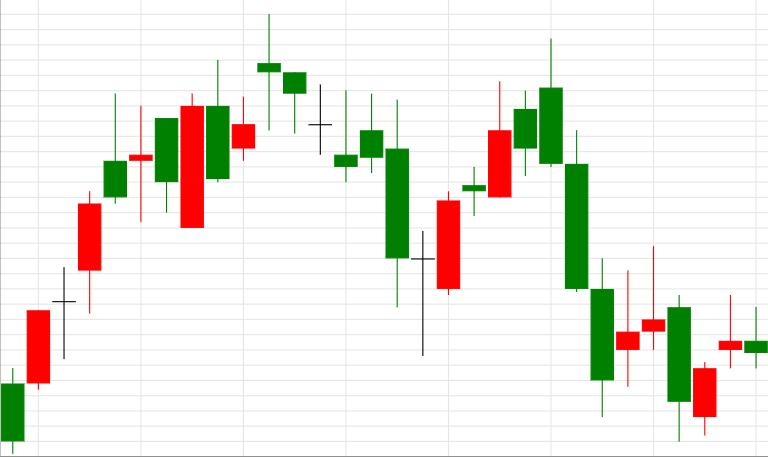shooting_star_fall: (27, 93, 126, 390)
three_black_crows_fall: (411, 39, 614, 417)
